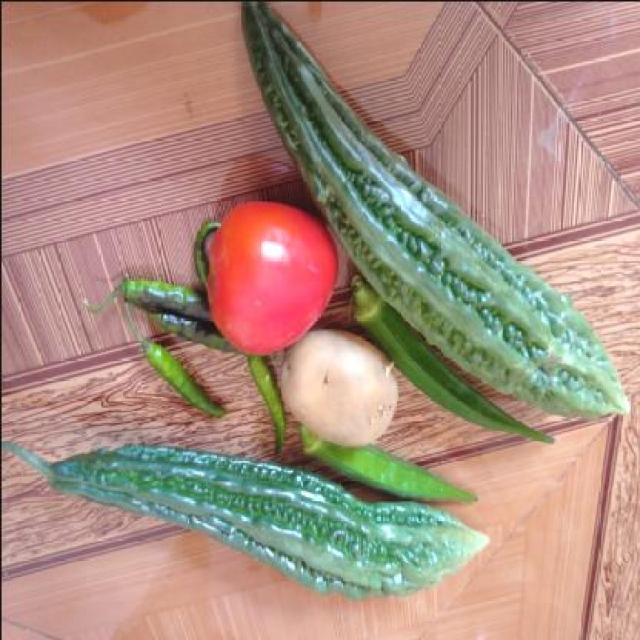Bitter melon: (0, 452, 485, 606)
Green Chili: (137, 331, 228, 420)
Potato: (272, 324, 397, 444)
Tomato: (206, 196, 339, 357)
